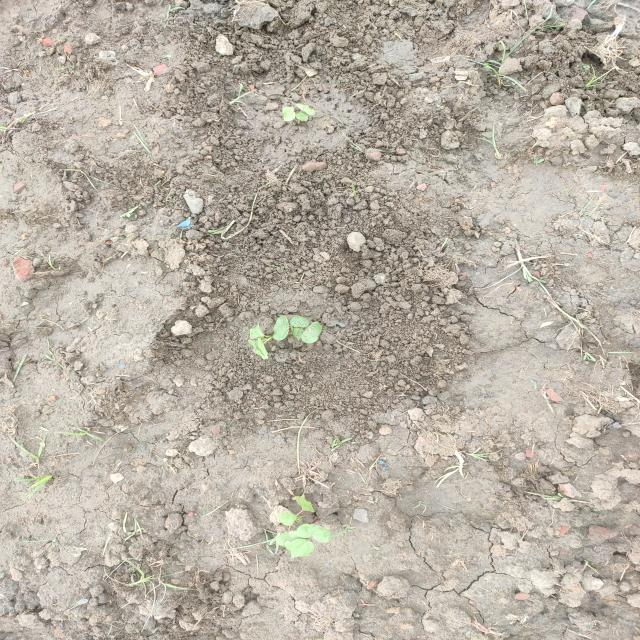seedling: (296, 524, 331, 543), (301, 321, 322, 344), (290, 539, 314, 558), (272, 315, 289, 341), (248, 339, 268, 360), (276, 530, 301, 546), (296, 496, 315, 512), (275, 513, 297, 526), (290, 316, 309, 328), (250, 323, 264, 339), (296, 104, 315, 115), (283, 106, 295, 122), (258, 338, 267, 358), (292, 327, 304, 341), (296, 112, 308, 121)
